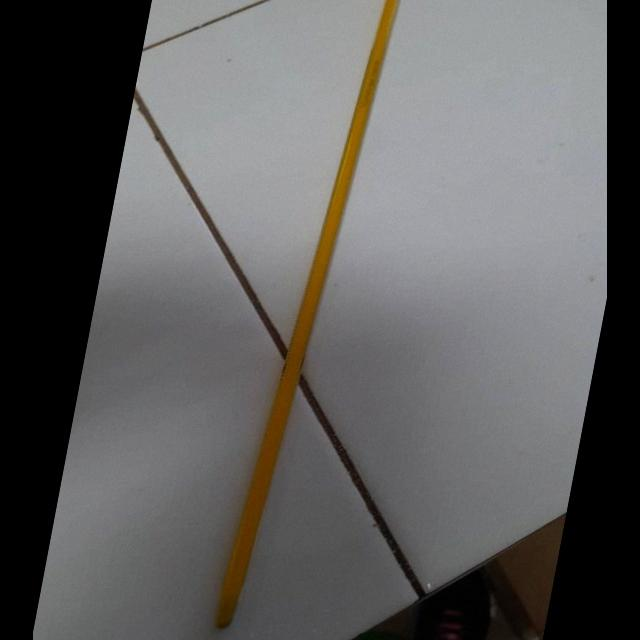Thermometer: (206, 0, 425, 634)
